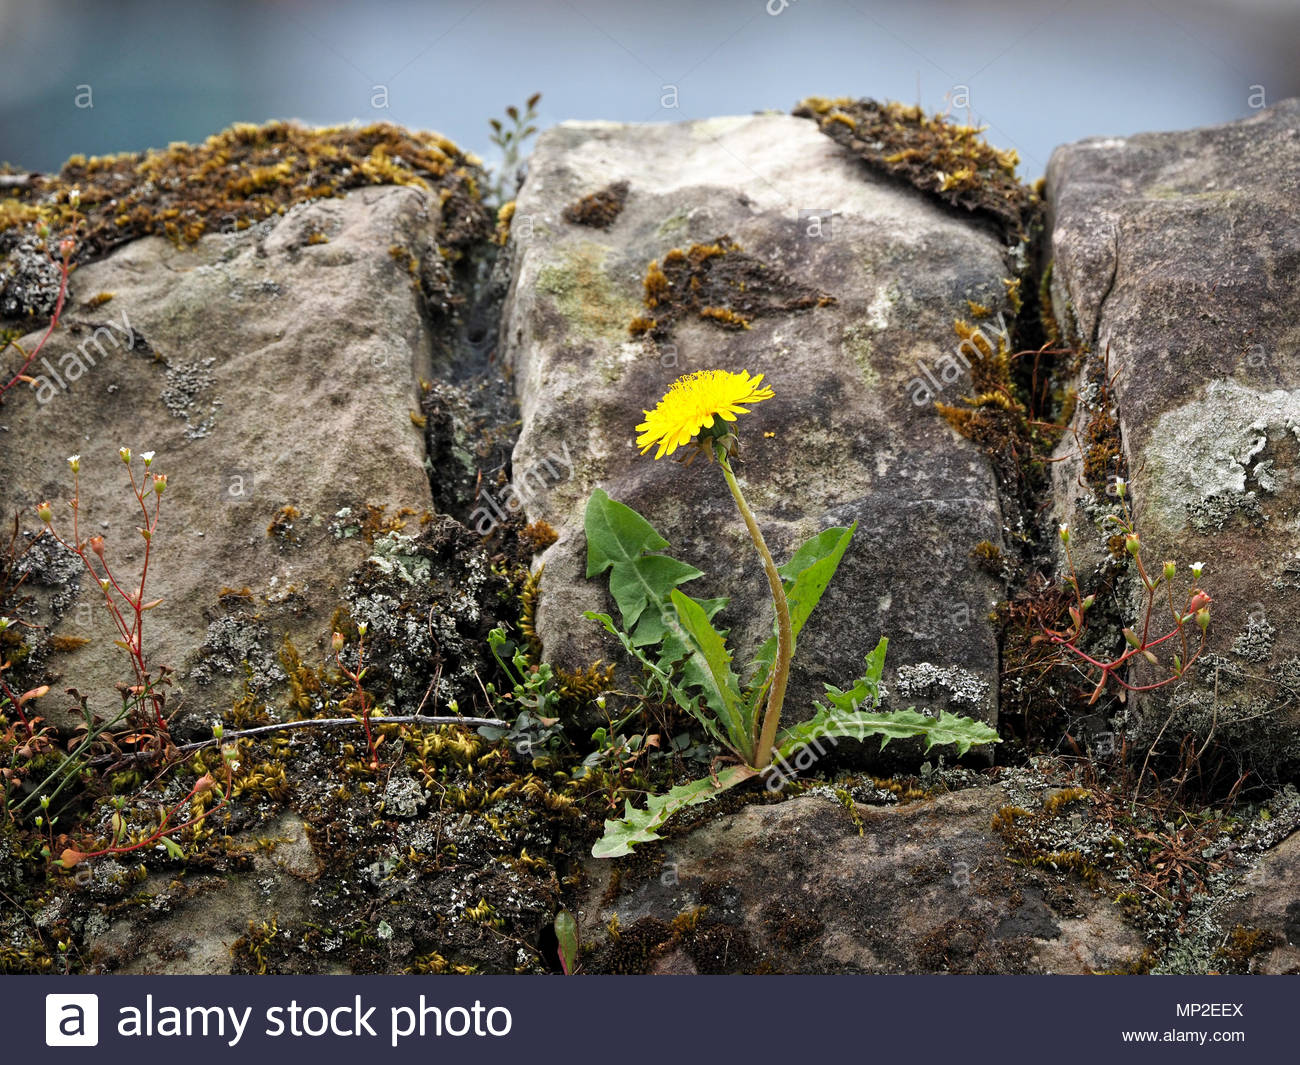dandelion: (641, 361, 770, 466)
